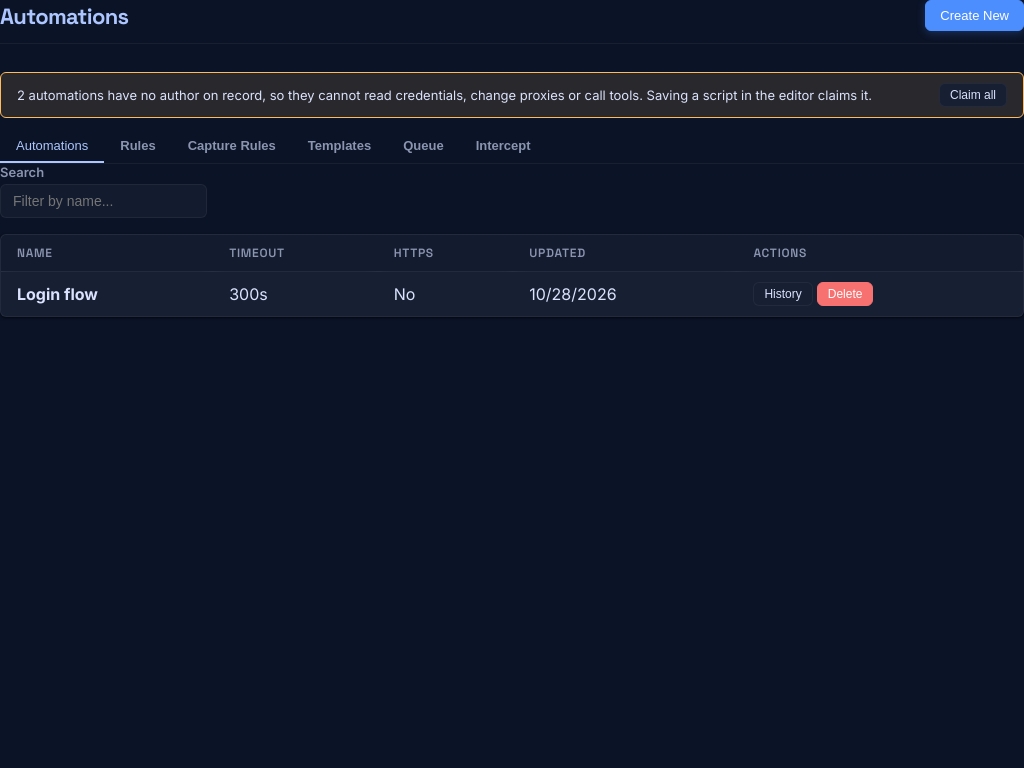
Automations: claiming scripts nobody has claimed › claims them on confirm, reports how many, and clears the banner
Click the button with test id "claim-all-button" at (973,95), box [939, 83, 1007, 107]
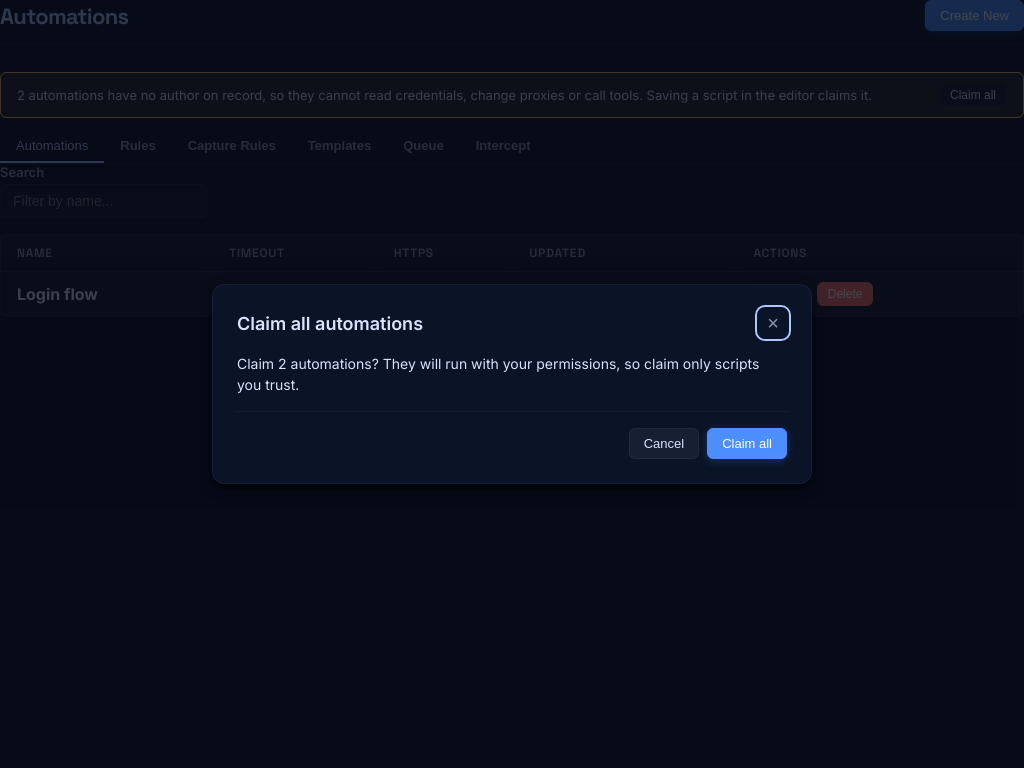
Click the button with test id "confirm-dialog-confirm" at (747,444), box [707, 428, 787, 459]
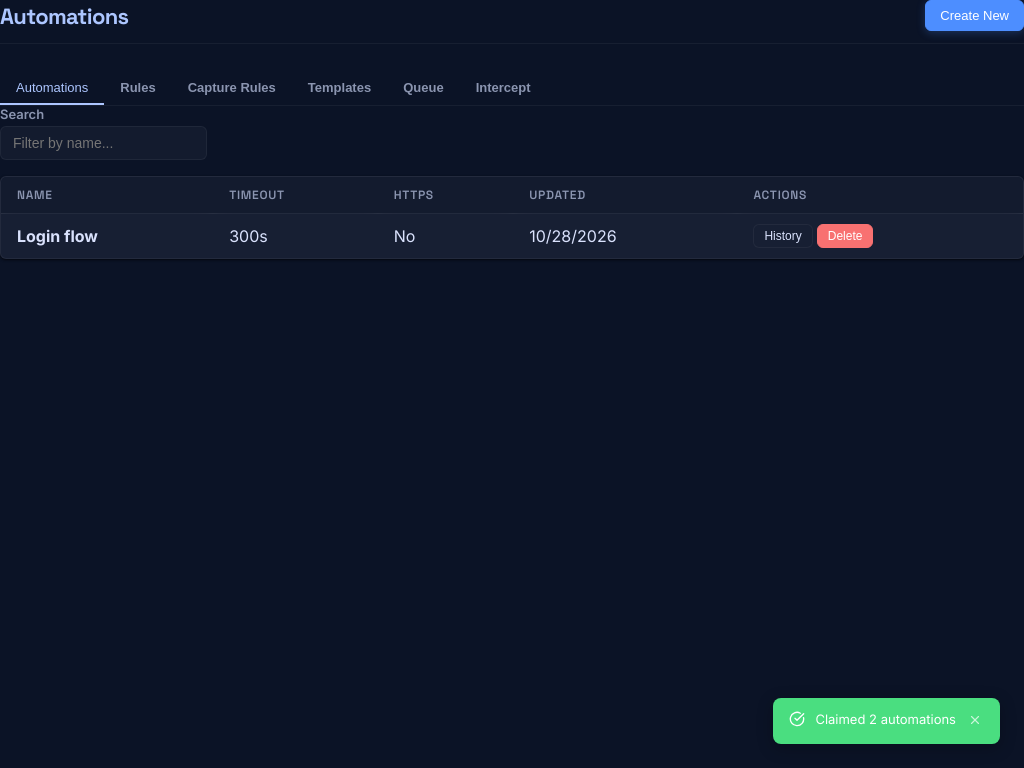
Check: the text "Claimed 2 automations" is shown, box [815, 710, 956, 728]
Check: the element with test id "automations-claim-banner" is gone
